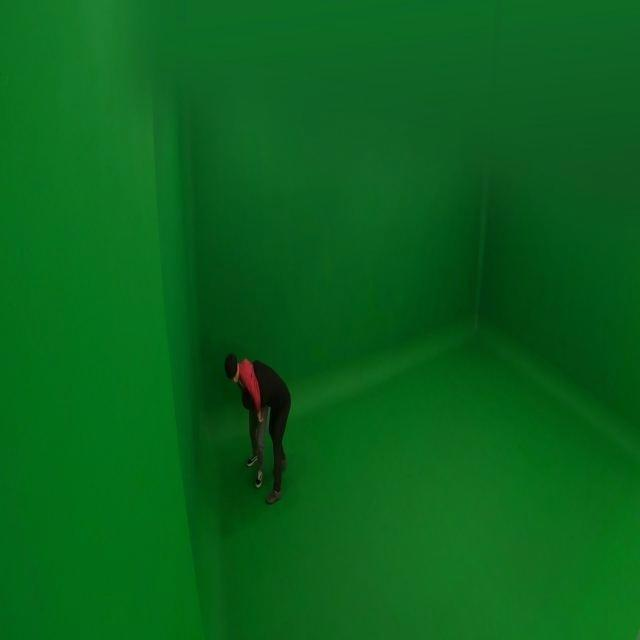fight: (224, 352, 295, 505)
